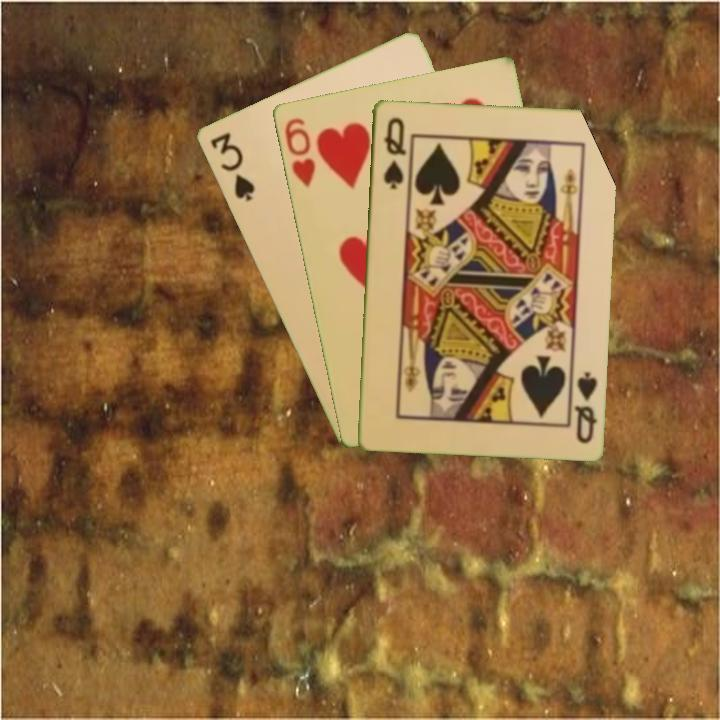3s: (206, 129, 258, 204)
6h: (280, 114, 318, 190)
Qs: (379, 113, 408, 192), (571, 368, 599, 446)
